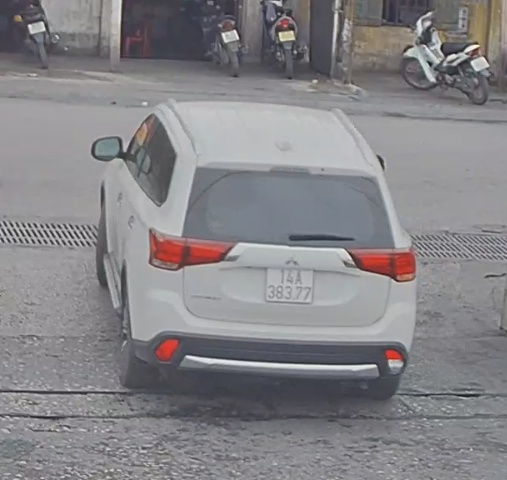vehicle plate: (264, 262, 316, 304)
